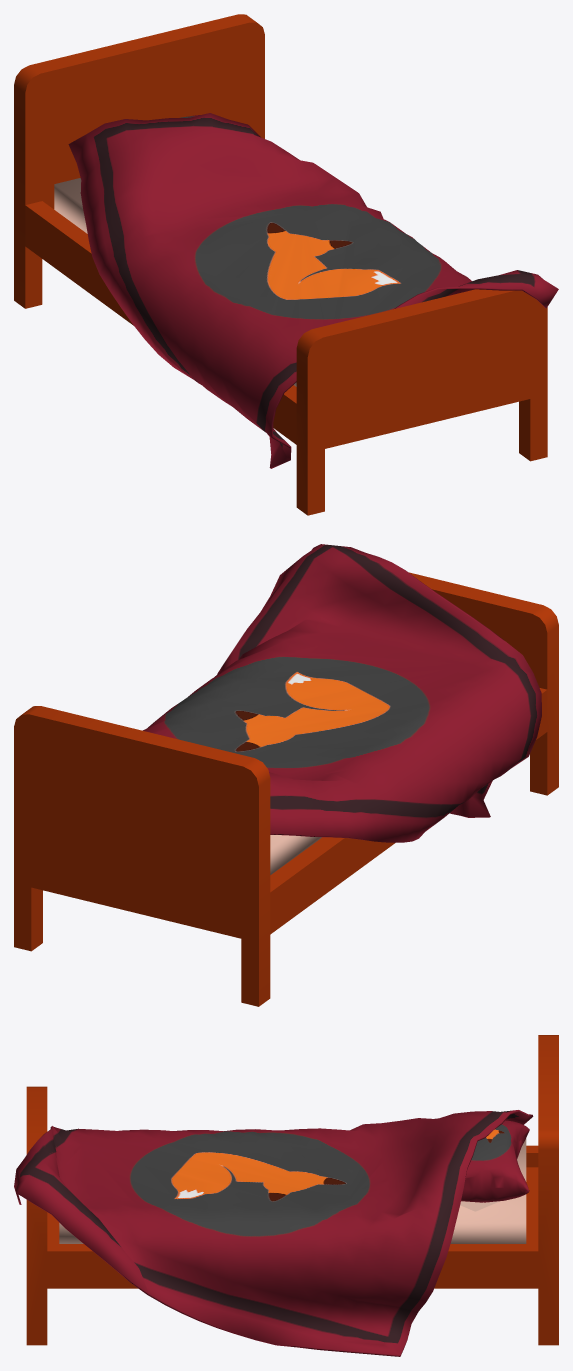
File: Bed.fbx
The picture shows the model from 3 angles, top to bottom: view 1: azimuth 30°, elevation 25°; view 2: azimuth 150°, elevation 25°; view 3: azimuth 270°, elevation 25°; orthographic projection. The views are drawn at different scales.
Parts seen in each view (by area): view 1: Blanket, Bed_Frame, Mattress; view 2: Blanket, Bed_Frame, Mattress; view 3: Blanket, Bed_Frame, Pillow, Mattress.
Boxes of the visible parts, x1,y1,x2,y2 form: Blanket: [68, 113, 558, 468]; Bed_Frame: [14, 14, 547, 515]; Mattress: [54, 178, 296, 386]; Blanket: [143, 544, 541, 842]; Bed_Frame: [14, 572, 558, 1006]; Mattress: [270, 835, 321, 874]; Blanket: [14, 1110, 533, 1356]; Bed_Frame: [26, 1035, 558, 1345]; Pillow: [461, 1120, 529, 1202]; Mattress: [59, 1138, 526, 1243].
Size of the model in its own units: 1.47 by 1.13 by 2.65.
Materials: 2 (2 with a texture image).
